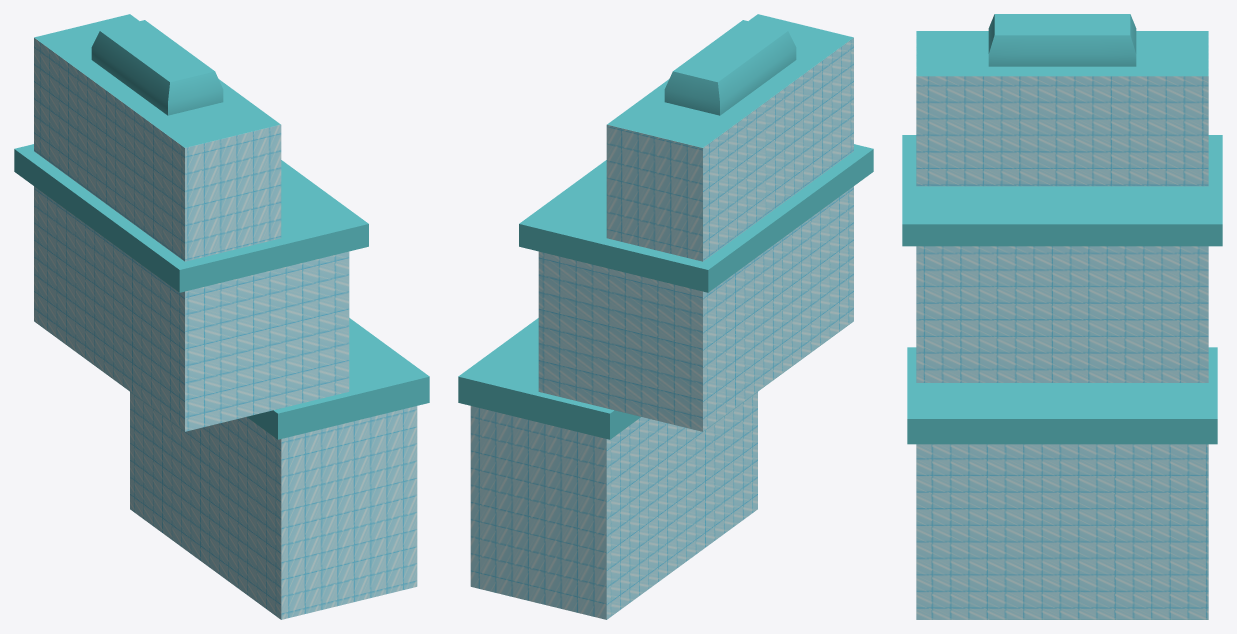
File: bina6.fbx
The picture shows the model from 3 angles, left to right: view 1: azimuth 30°, elevation 25°; view 2: azimuth 150°, elevation 25°; view 3: azimuth 270°, elevation 25°; orthographic projection. The views are drawn at different scales.
Parts seen in each view (by area): view 1: bina6_; view 2: bina6_; view 3: bina6_.
Boxes of the visible parts, x1=… form: bina6_: x1=14, y1=14, x2=429, y2=619; bina6_: x1=458, y1=14, x2=873, y2=619; bina6_: x1=902, y1=14, x2=1222, y2=619.
Size of the model in its own units: 38.52 by 76.51 by 43.72.
